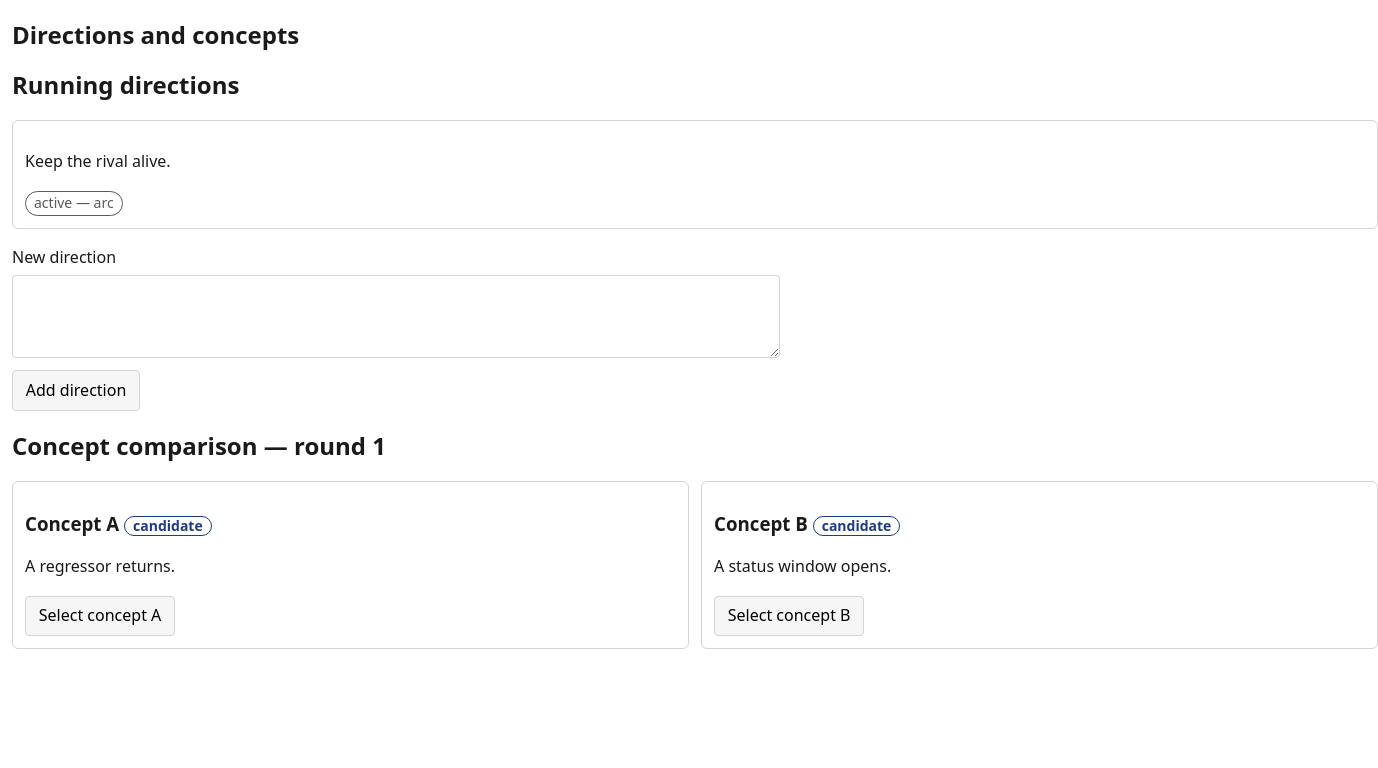
directions and concepts › selects a concept and never presents the loser as selected
Expected: the heading "Concept comparison — round 1" is shown, top-left (12, 429), bottom-right (386, 462)
Click the button "Select concept B" at {"x": 789, "y": 616}, box top-left (714, 596), bottom-right (864, 636)
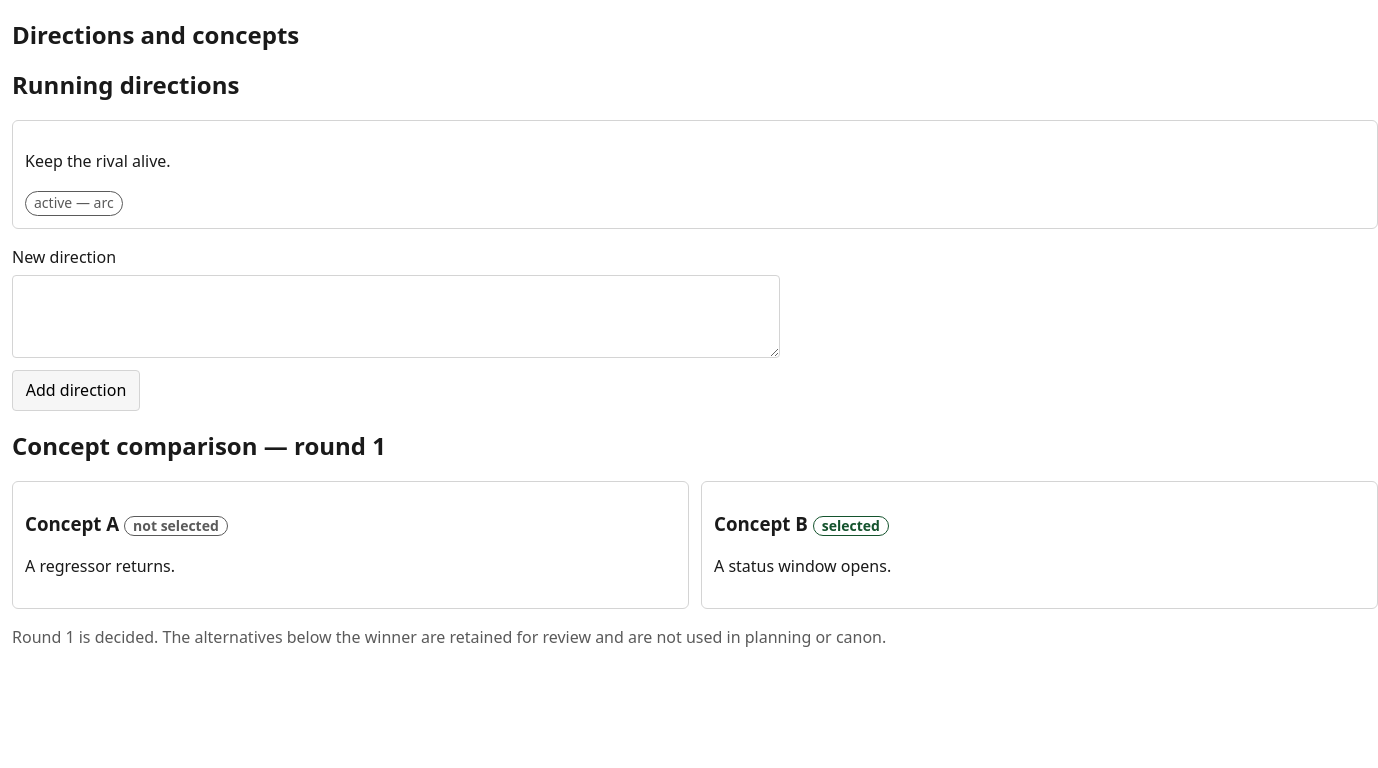
Expected: the text with test id "concept-decision" is shown, top-left (12, 626), bottom-right (886, 648)
Expected: the heading "Concept B selected" is shown, top-left (714, 511), bottom-right (889, 536)
Expected: the heading "Concept A not selected" is shown, top-left (25, 511), bottom-right (228, 536)
